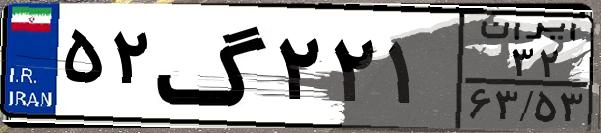1: (385, 28, 445, 110)
2: (270, 28, 330, 110), (330, 28, 385, 110), (110, 28, 156, 98), (537, 27, 568, 80)
3: (560, 70, 590, 125), (508, 27, 537, 80), (495, 70, 520, 125)
5: (57, 26, 110, 100), (535, 70, 560, 125)
6: (470, 70, 495, 125)
گ: (156, 12, 270, 120)
